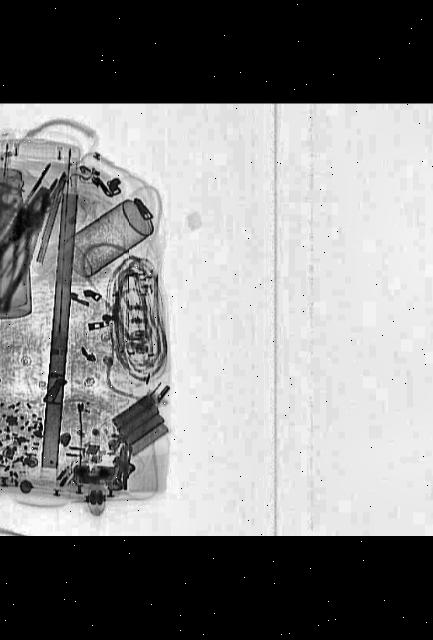Pliers: (0, 180, 69, 312)
Wrench: (0, 189, 23, 257)
